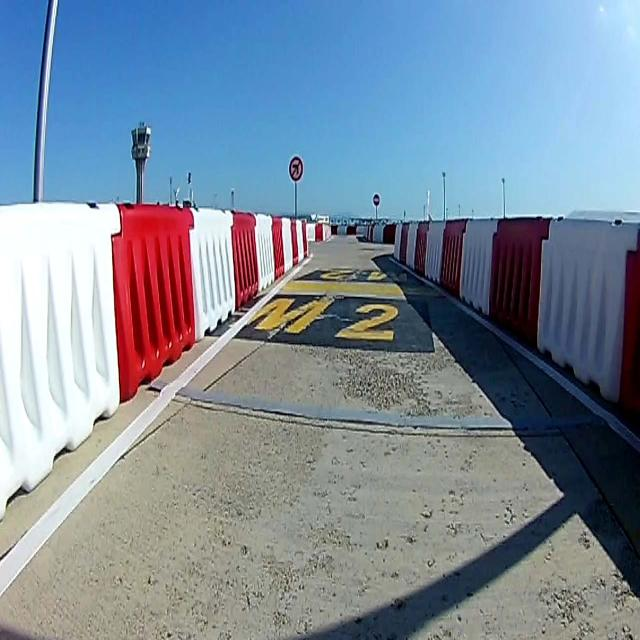soladonulmez: (289, 154, 303, 181)
